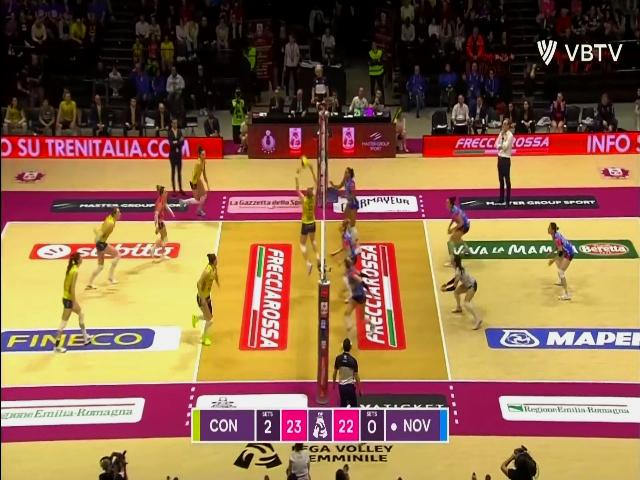volleyball court: (2, 216, 638, 383)
